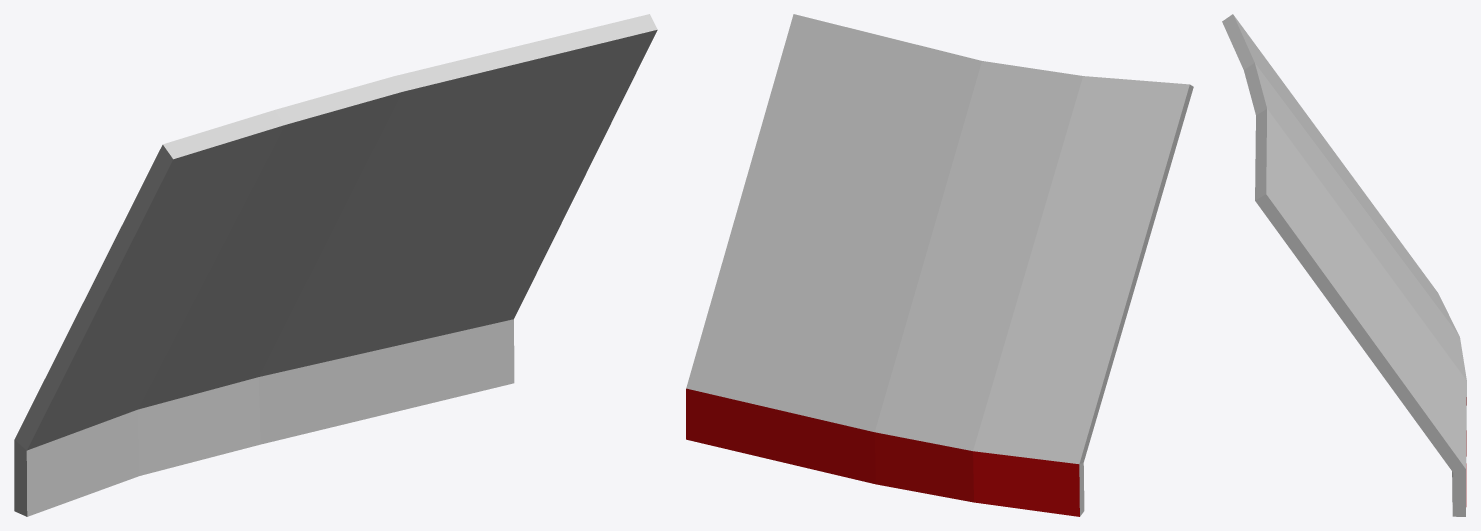
Rendered from Port Side Hatch anim.fbx.
3 renders of one model, left to right at view 1: azimuth 30°, elevation 25°; view 2: azimuth 150°, elevation 25°; view 3: azimuth 270°, elevation 25°, orthographic. The views are drawn at different scales.
Parts seen in each view (by area): view 1: Port Side Hatch; view 2: Port Side Hatch; view 3: Port Side Hatch.
Part boxes in pixels (<box>): Port Side Hatch: <box>14,14,657,516</box>; Port Side Hatch: <box>686,14,1193,516</box>; Port Side Hatch: <box>1222,14,1466,516</box>.
Size of the model in its own units: 152 by 136 by 91.34.
